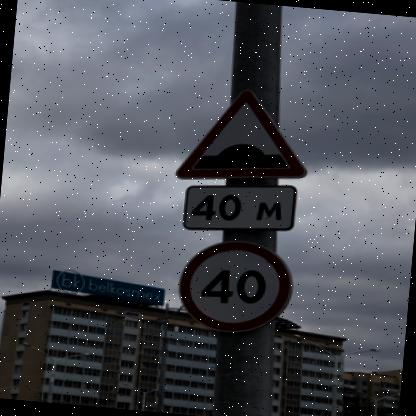speedlimit: (172, 236, 294, 336)
